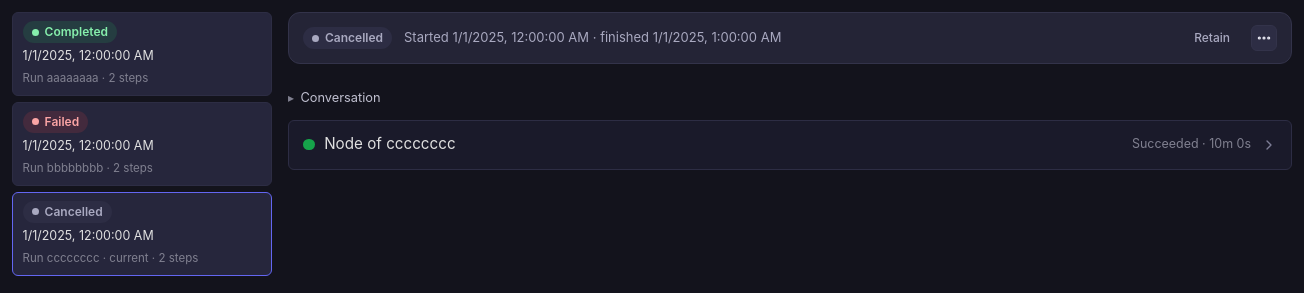
it: RunsPanel run actions › a deleted run leaves the list at once and the selection moves to the current run
Check: the text "Node of cccccccc" is shown, box 324,133 -> 456,156
Click the button "Completed 1/1/2025, 12:00:00 AM Run aaaaaaaa · 2 steps" at (142, 54), box 12,12 -> 272,96
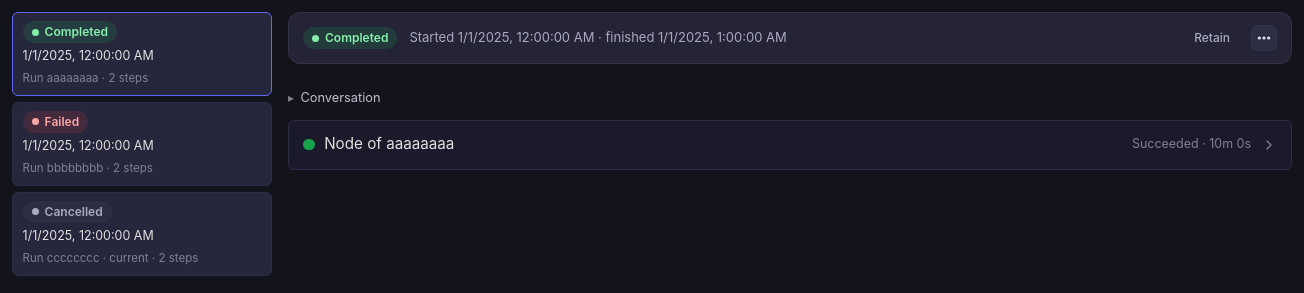
Check: the text "Node of aaaaaaaa" is shown, box 324,133 -> 454,156
Click the button named "Run actions" at (1264, 38), box 1251,25 -> 1277,51
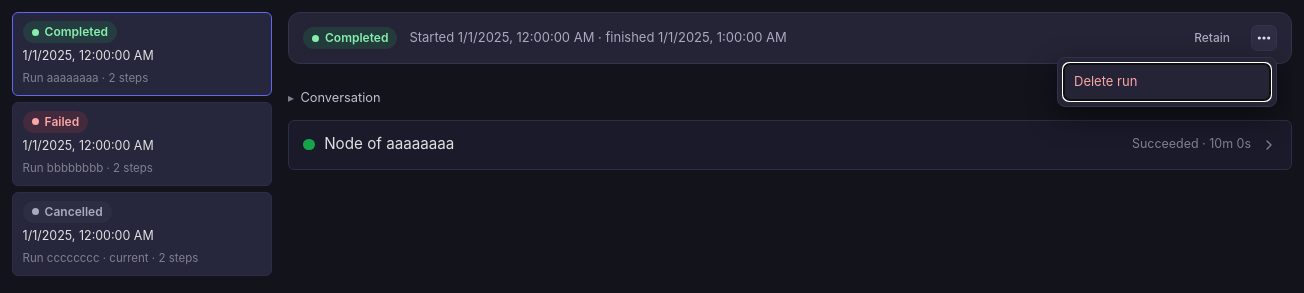
Click the menu item "Delete run" at (1167, 82), box 1064,64 -> 1270,100
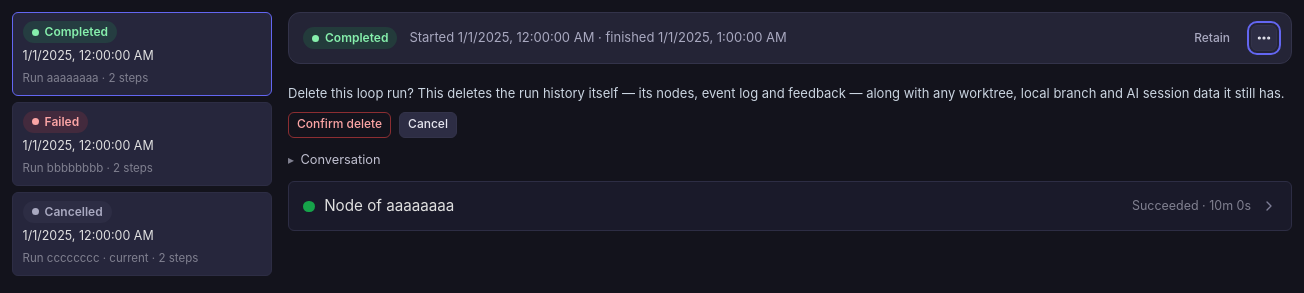
Click the button "Confirm delete" at (340, 124), box 288,112 -> 391,138
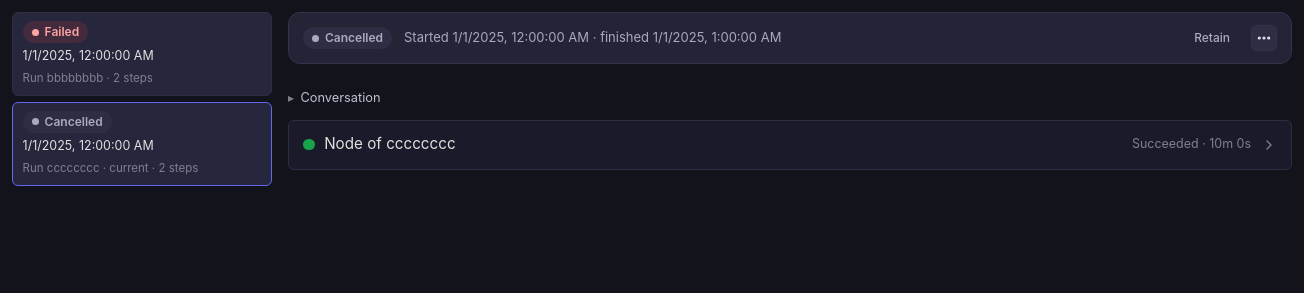
Check: the button "Run aaaaaaaa" is gone
Check: the text "Node of cccccccc" is shown, box 324,133 -> 456,156
Check: the button "Node of aaaaaaaa" is gone
